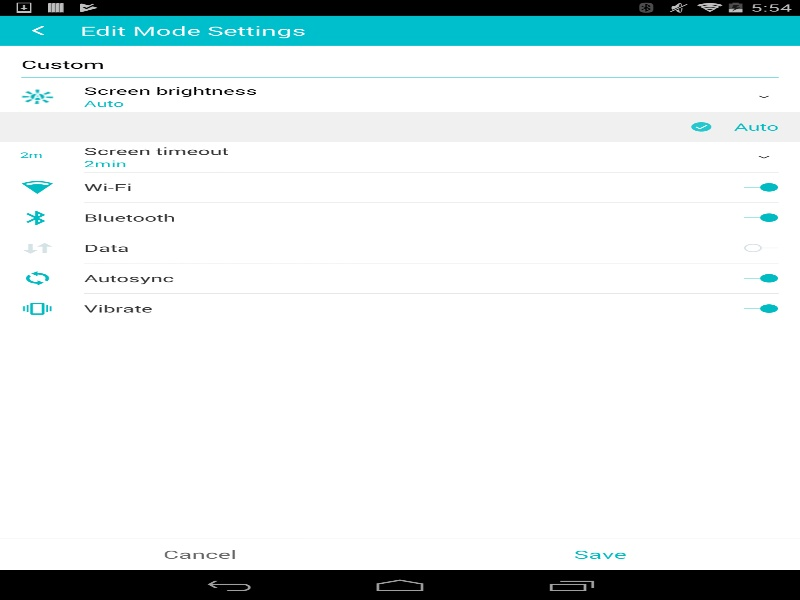Button: (0, 538, 400, 570), (400, 538, 800, 570)
Input: (21, 51, 778, 76)
